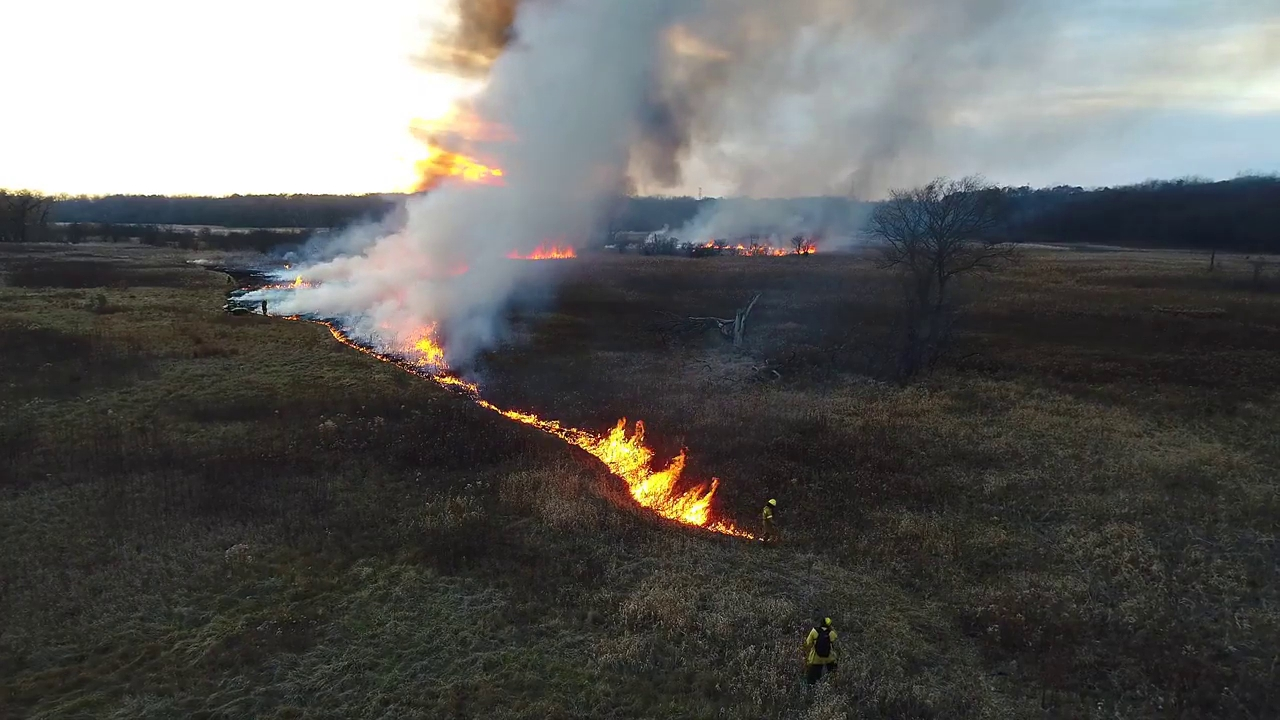forest_fire: (312, 319, 754, 537), (690, 237, 816, 255), (507, 241, 576, 259), (292, 276, 303, 286)
